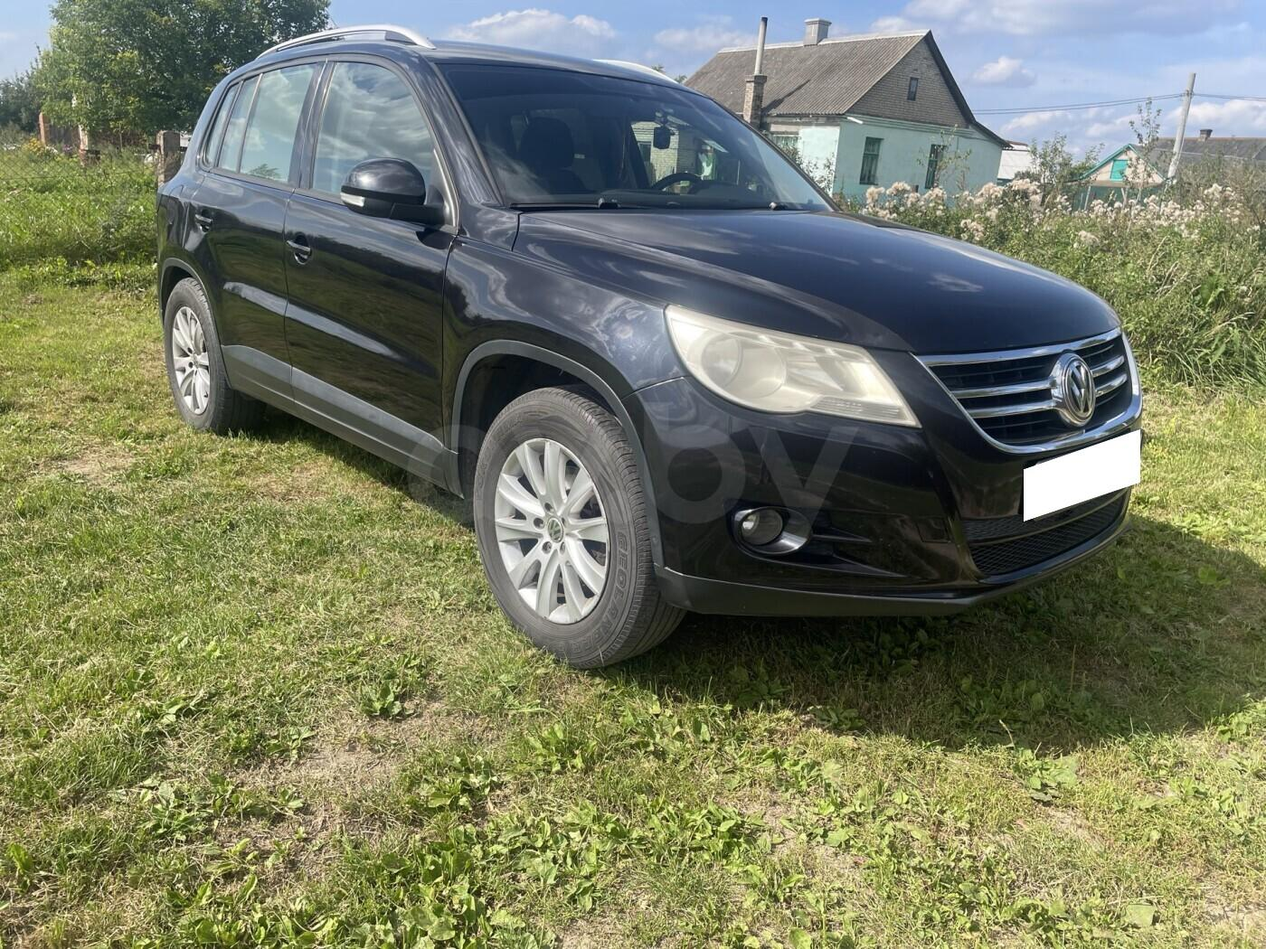Tiguan_2007-2011: (146, 40, 1148, 675)
